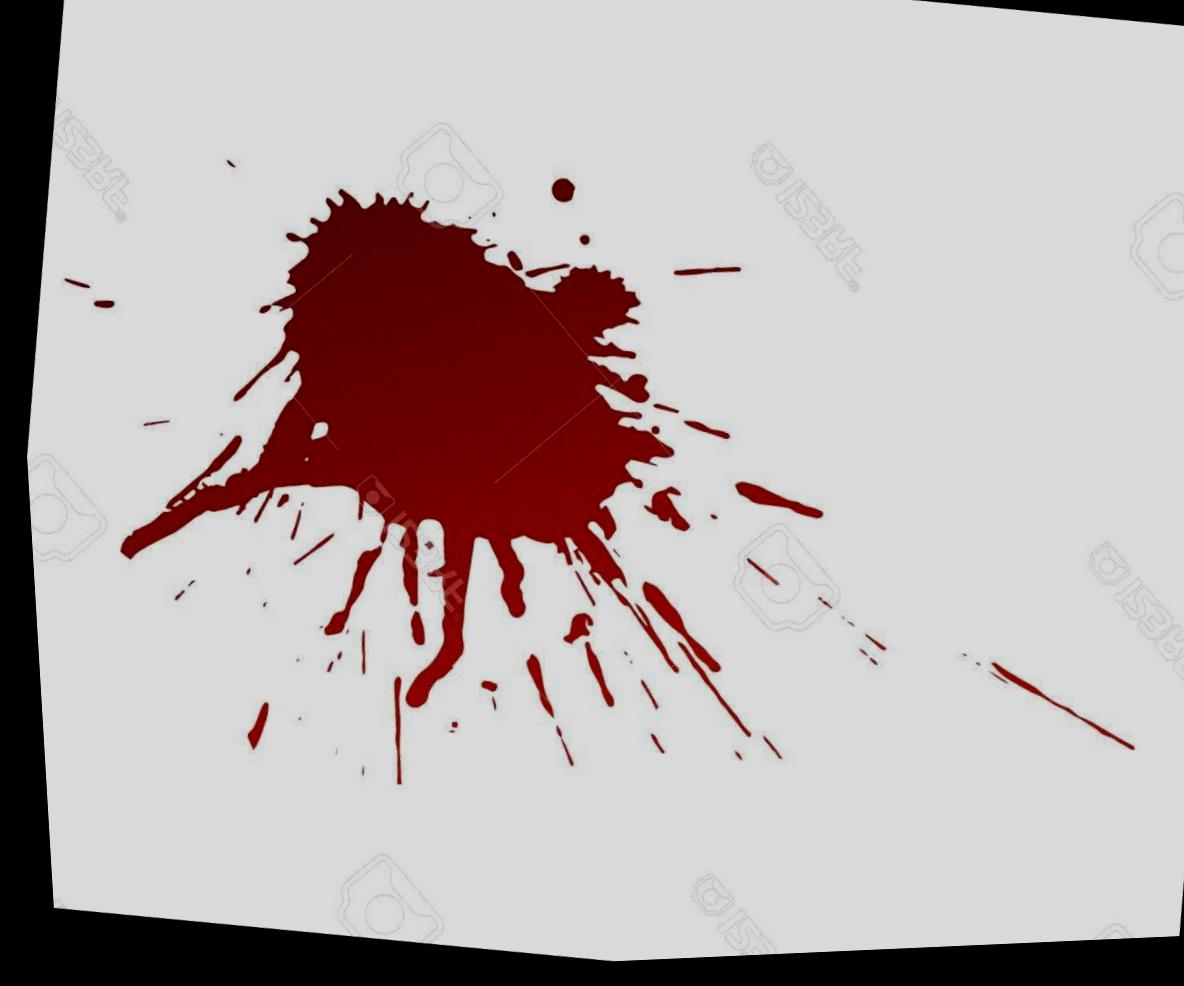Fire: (111, 192, 669, 712)
